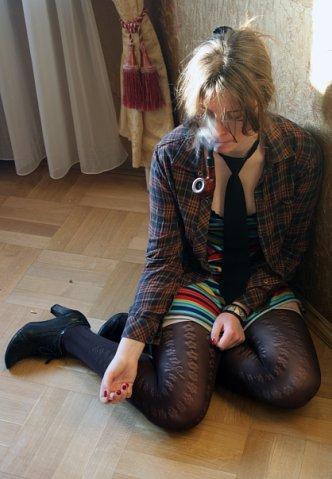trubka: (192, 142, 216, 195)
